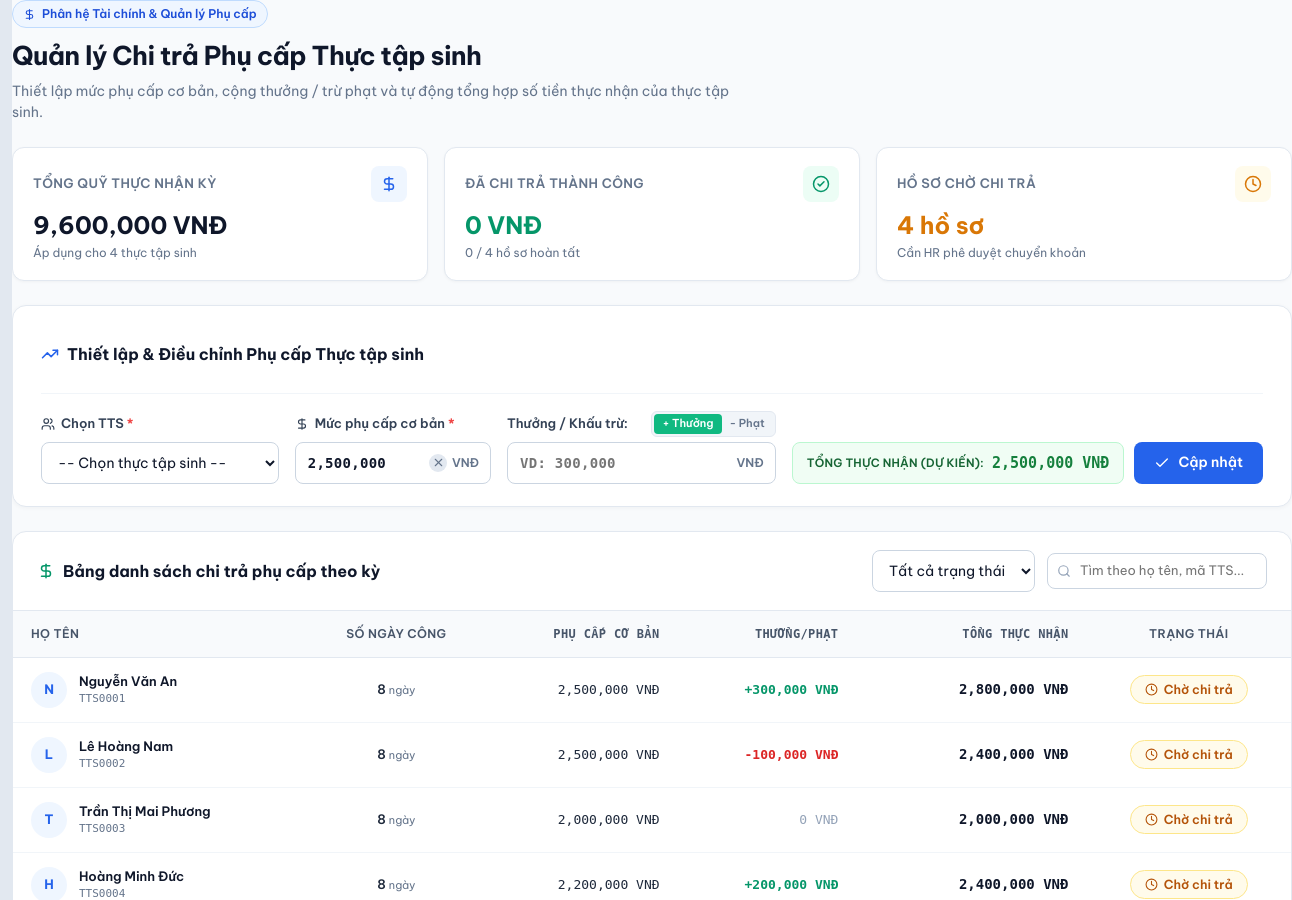
Test: AllowanceManagementPage Component Test Suite › 4. Tính toán Tổng thực nhận tự động và đẩy lên API › tính toán live preview Tổng thực nhận = Phụ cấp cơ bản + Thưởng
Clear the field labelled "Mức phụ cấp cơ bản *": point(393, 463) [295, 442, 491, 484]
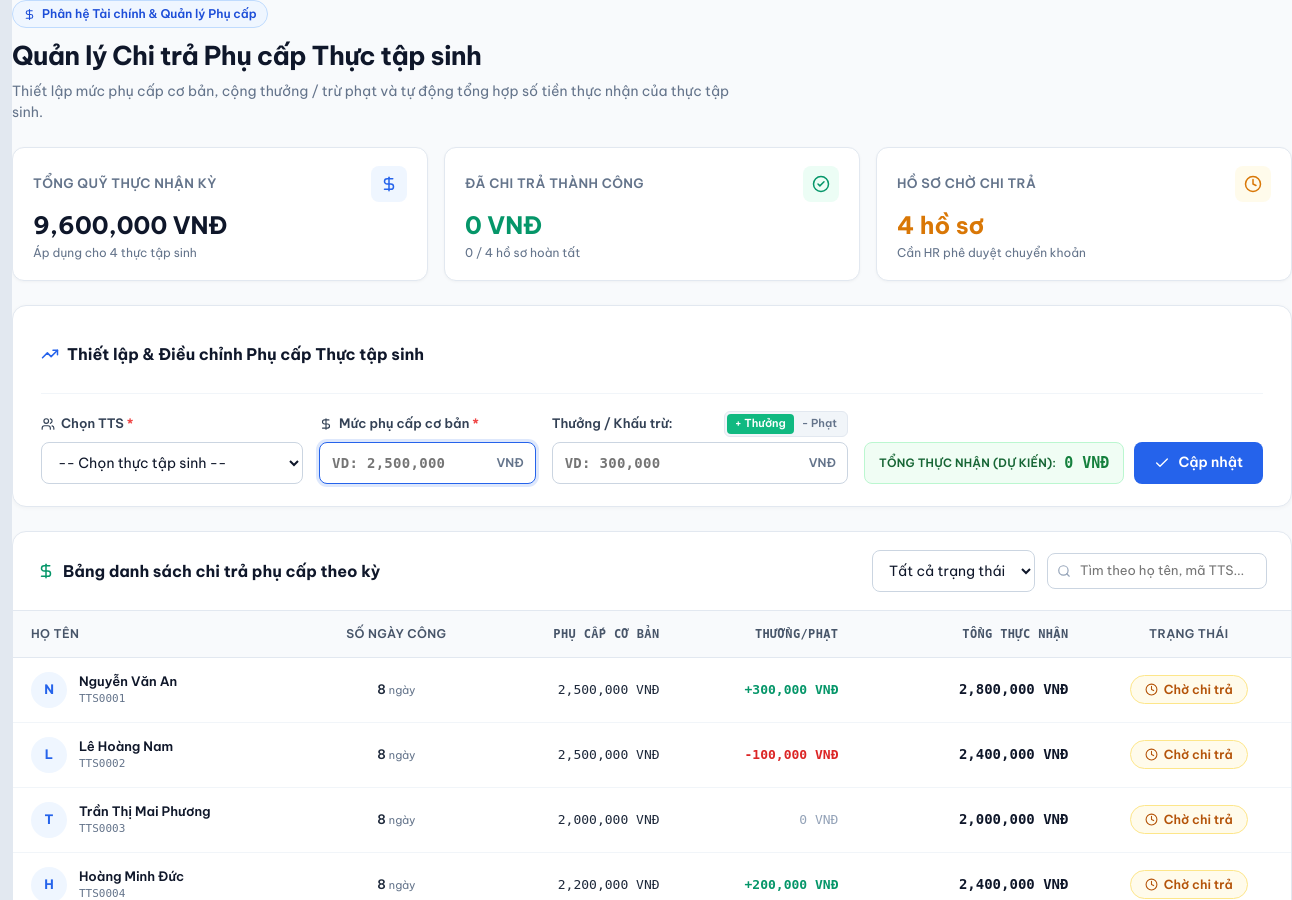
In the field labelled "Mức phụ cấp cơ bản *": point(427, 463) [319, 442, 536, 484], type "2000000"
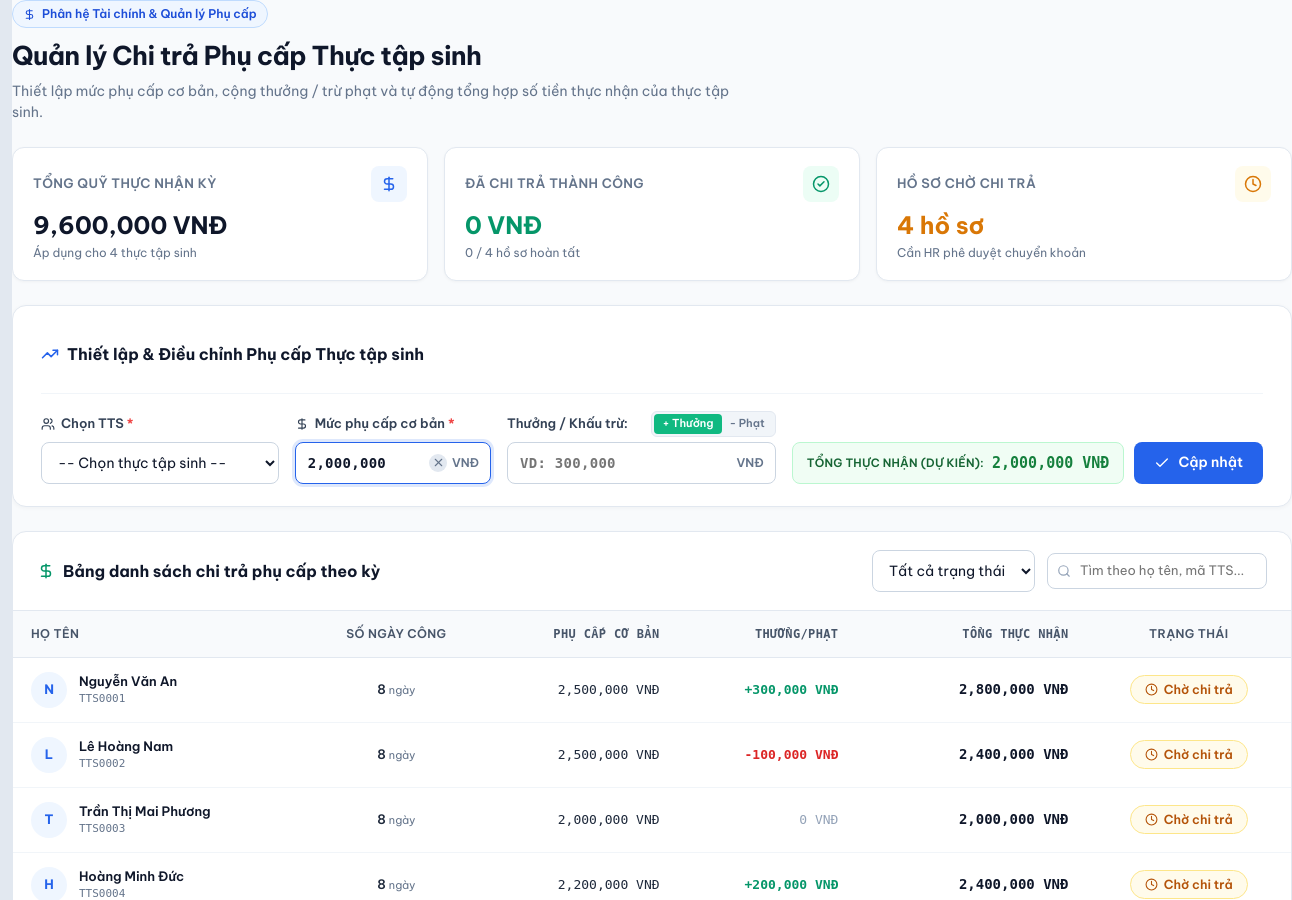
In the field named "Thưởng hoặc khấu trừ": point(641, 463) [507, 442, 776, 484], type "500000"
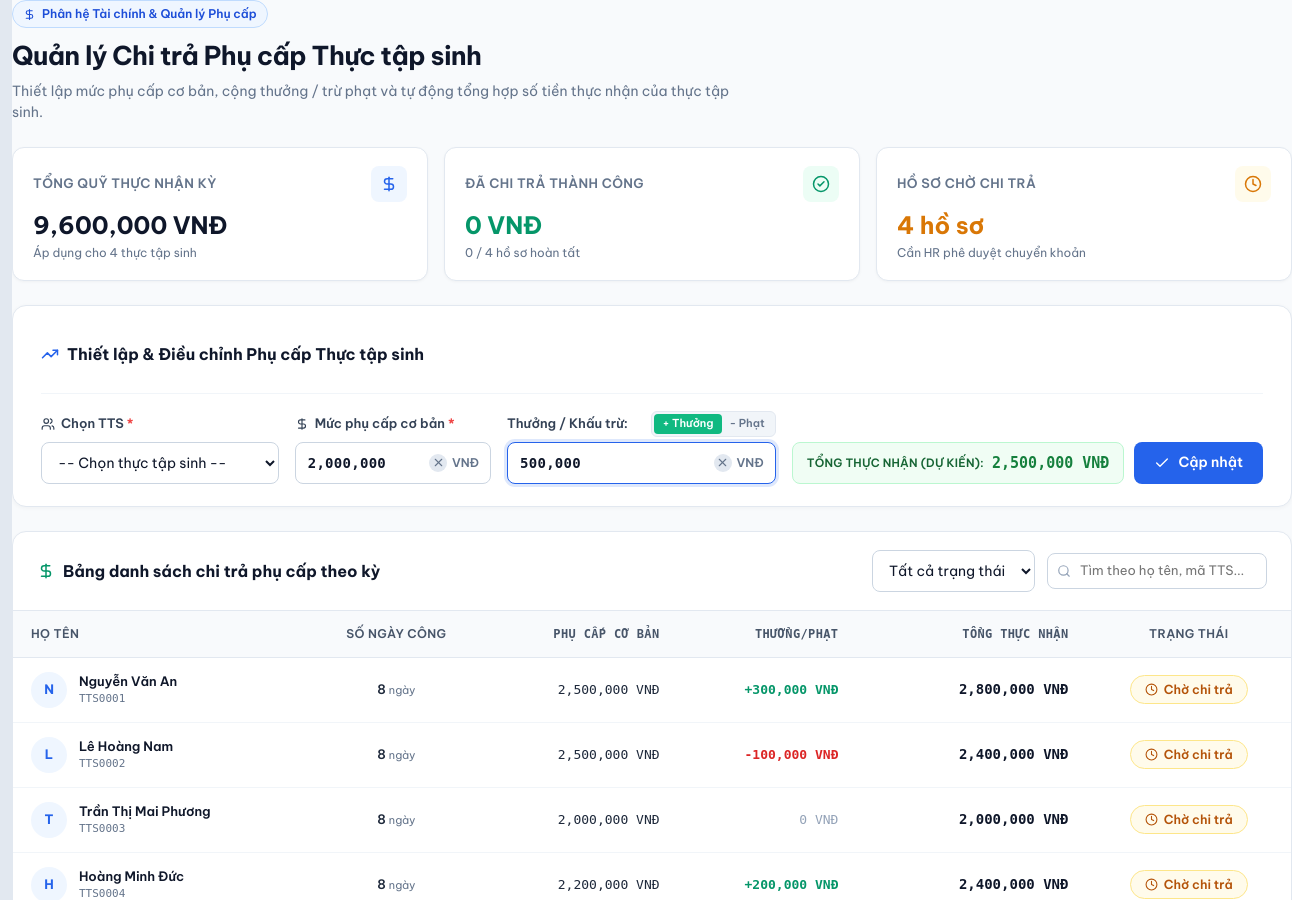
expect the text with test id "preview-total-net" reads "2,500,000 VNĐ": met, box [992, 454, 1109, 472]
